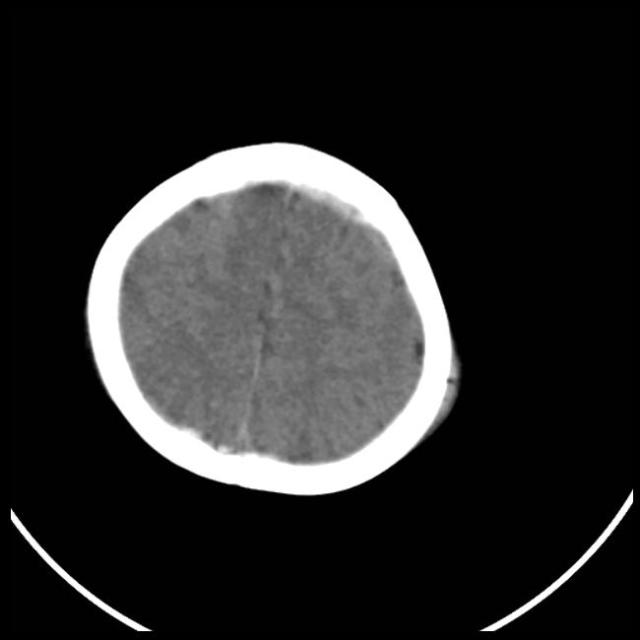lesion: (80, 136, 466, 500)
